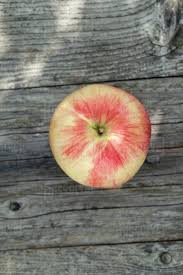apple: (50, 90, 148, 188)
